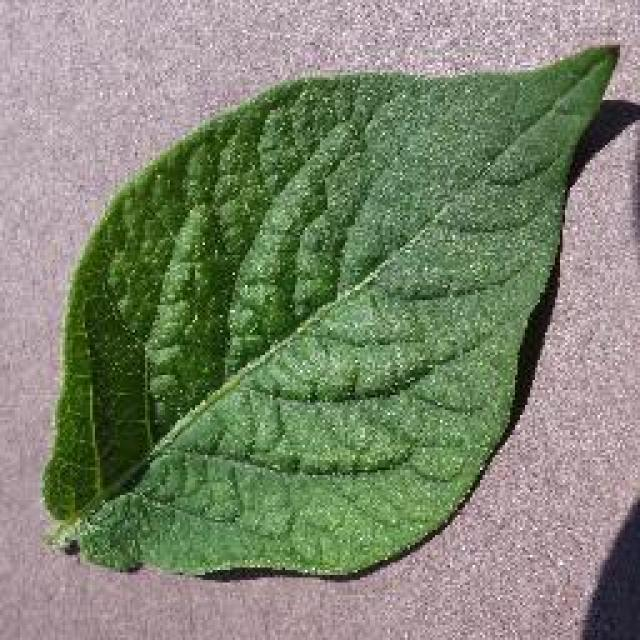Potato: (38, 40, 620, 580)
